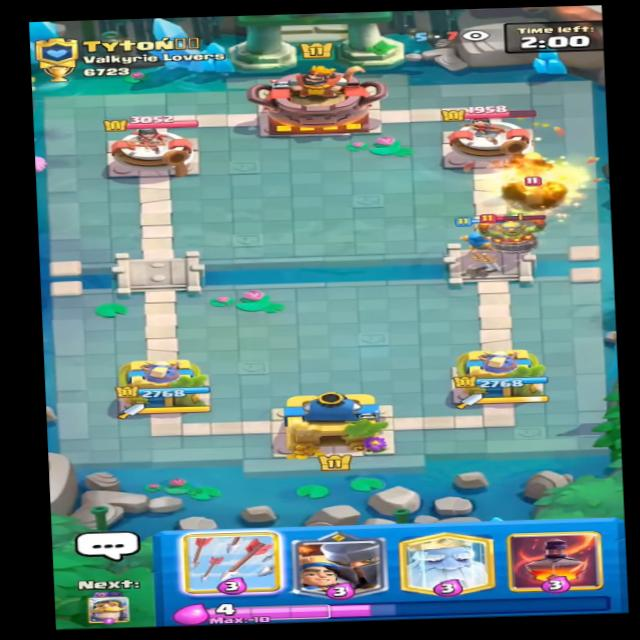Goblindemolisher: (477, 212, 557, 252)
